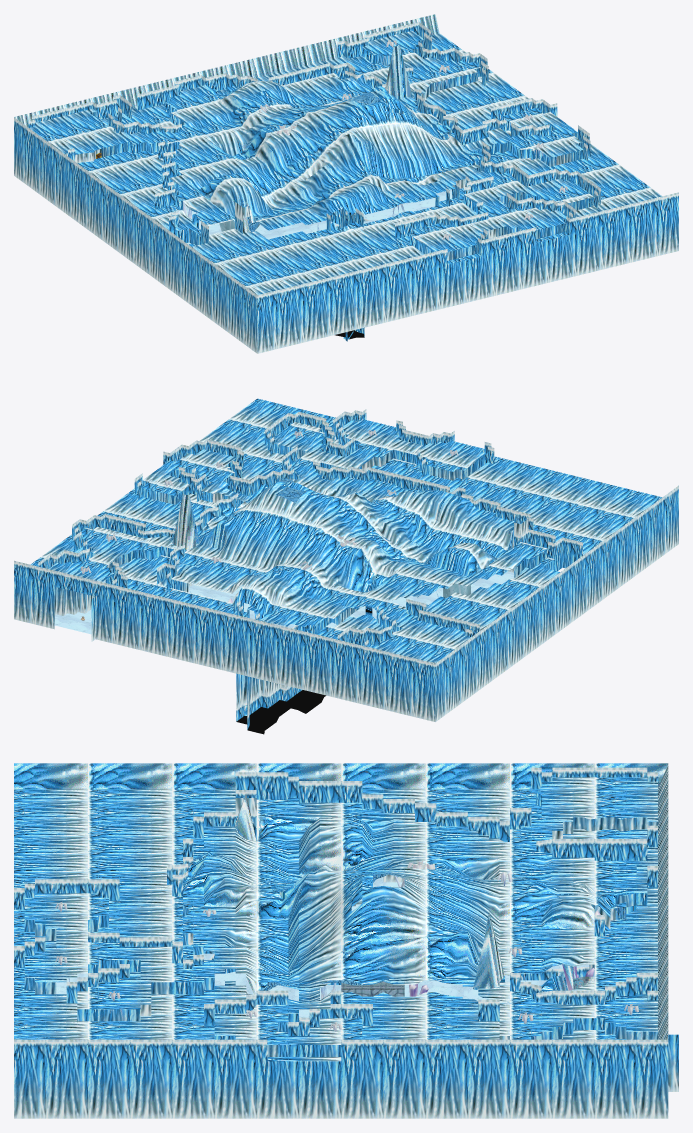
File: ffarena.gltf
The picture shows the model from 3 angles, top to bottom: view 1: azimuth 30°, elevation 25°; view 2: azimuth 150°, elevation 25°; view 3: azimuth 270°, elevation 25°; orthographic projection. The views are drawn at different scales.
Size of the model in its own units: 62 by 24.25 by 63.
Materials: 14 (14 with a texture image).
